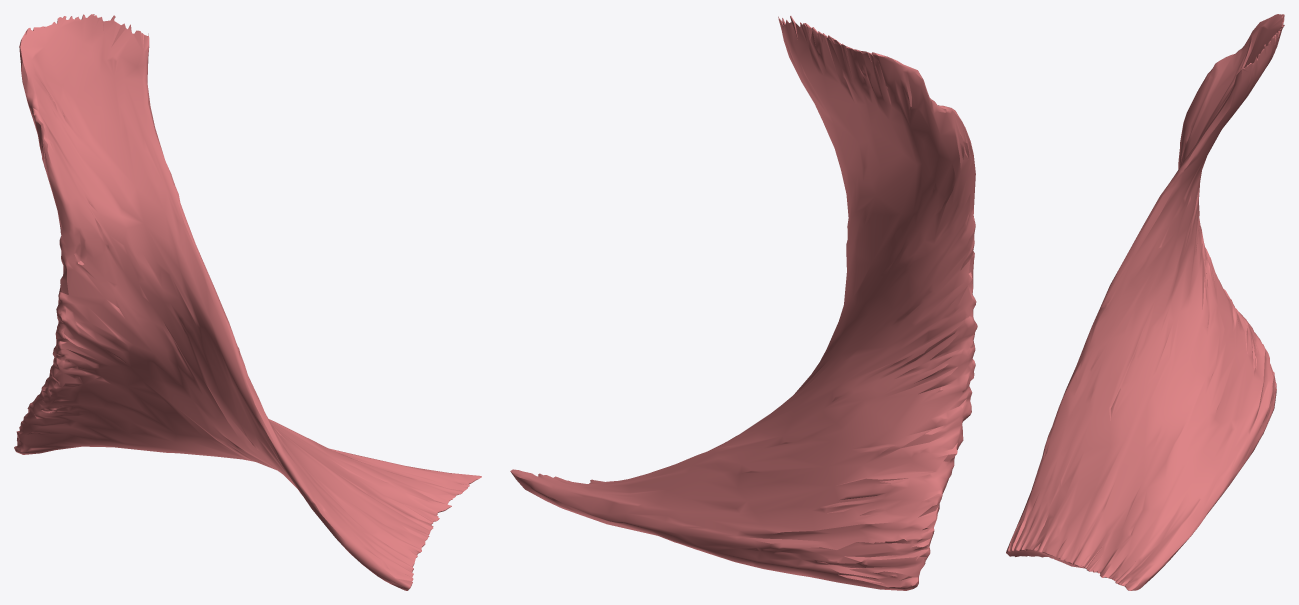
The picture shows the model from 3 angles, left to right: view 1: azimuth 30°, elevation 25°; view 2: azimuth 150°, elevation 25°; view 3: azimuth 270°, elevation 25°; orthographic projection. The views are drawn at different scales.
Parts seen in each view (by area): view 1: FJ1521M; view 2: FJ1521M; view 3: FJ1521M.
Part boxes in pixels (<box>): FJ1521M: <box>14,14,481,590</box>; FJ1521M: <box>510,16,977,590</box>; FJ1521M: <box>1006,14,1284,590</box>.
Size of the model in its own units: 0.1336 by 0.1648 by 0.0926.
